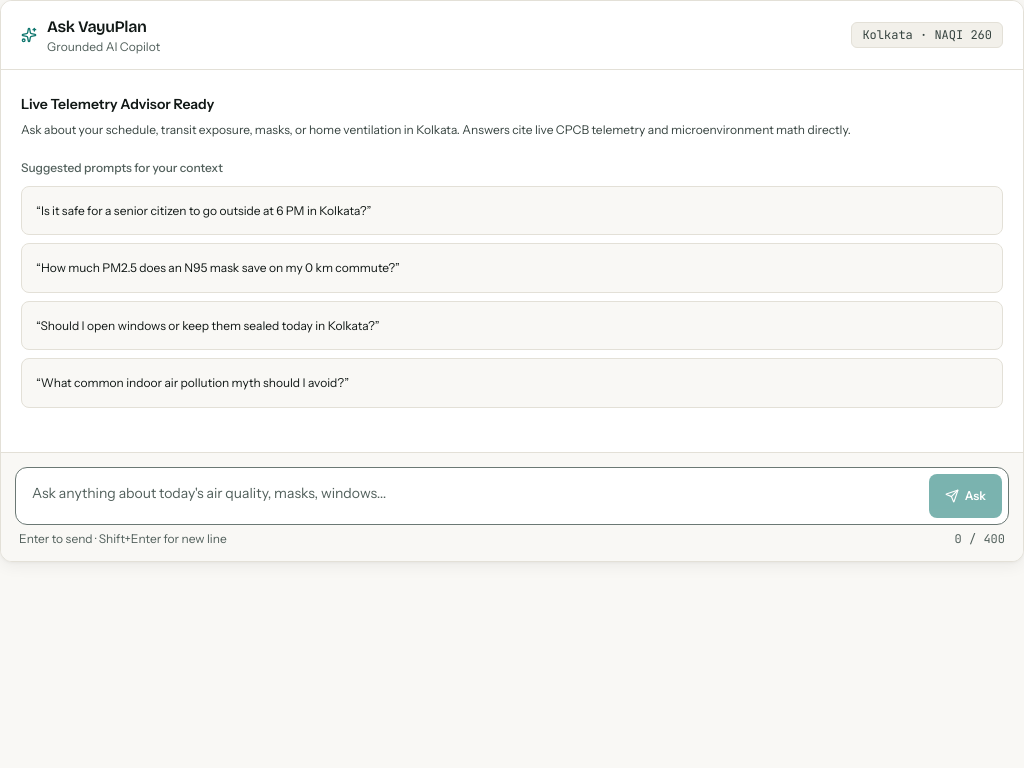
GroundedChat Component › keeps static empty state outside role=log and submits via textarea Enter key without Shift
Type "Should we close balconies?" into the text box with placeholder "Ask anything about today's air quality, masks, windows..." at (471, 496), box top-left (22, 474), bottom-right (921, 518)
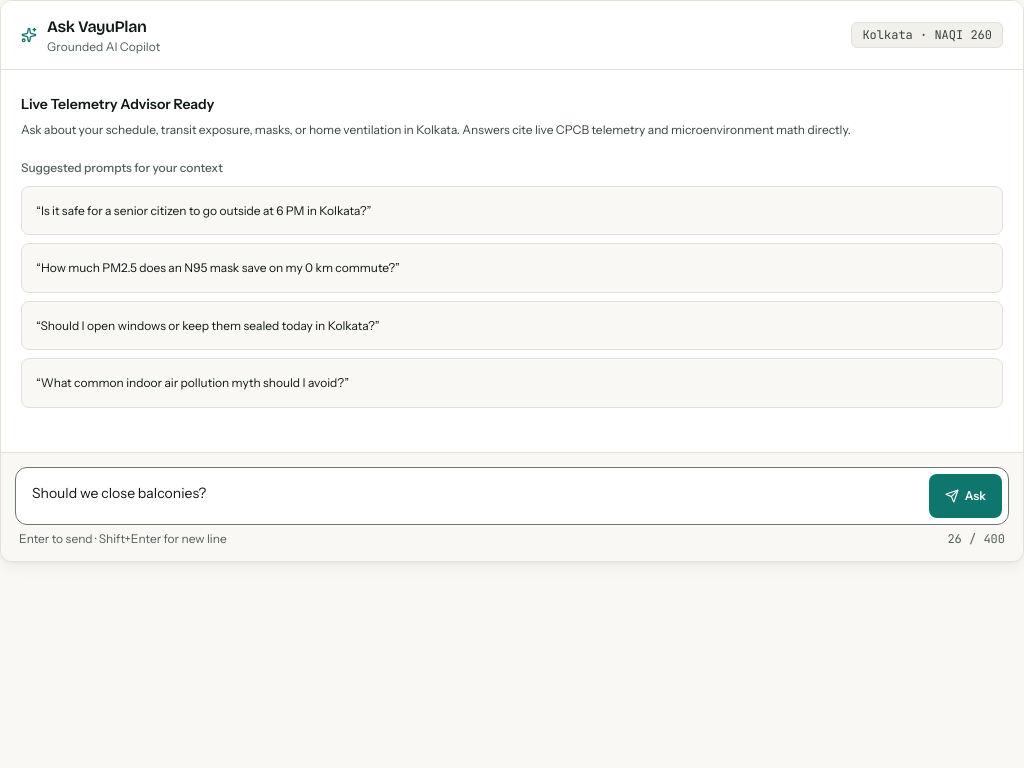
Press Enter in the text box with placeholder "Ask anything about today's air quality, masks, windows...", box top-left (22, 474), bottom-right (921, 518)
Press Enter in the text box with placeholder "Ask anything about today's air quality, masks, windows...", box top-left (22, 474), bottom-right (921, 518)
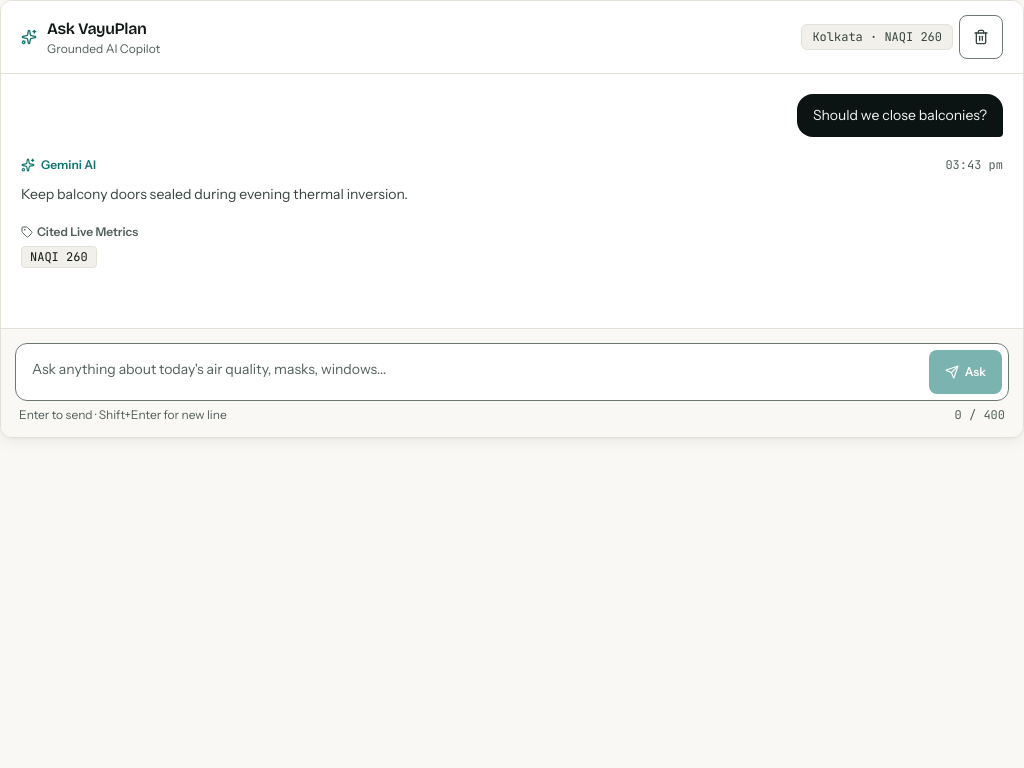
Check: the element that starts with "Should we close balconies?" is shown, box top-left (21, 94), bottom-right (1003, 288)
Check: the text "Keep balcony doors sealed during evening thermal inversion." is shown, box top-left (21, 185), bottom-right (408, 203)
